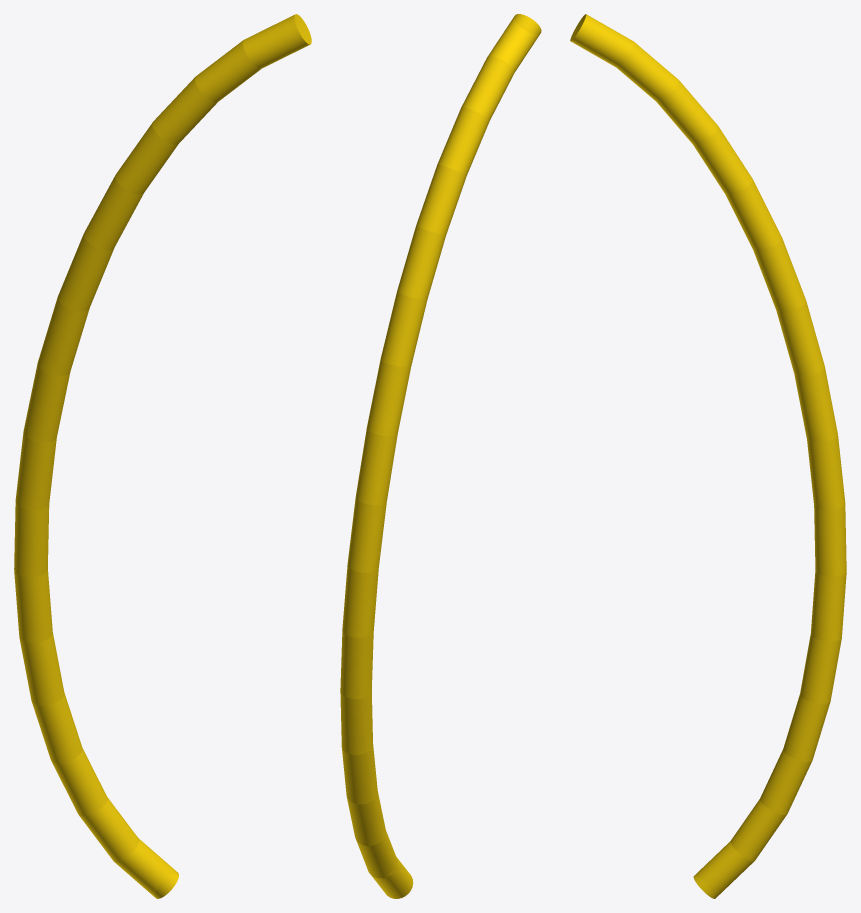
Rendered from Event_421364160_track_59.fbx.
The picture shows the model from 3 angles, left to right: view 1: azimuth 90°, elevation 25°; view 2: azimuth 150°, elevation 25°; view 3: azimuth 270°, elevation 25°; orthographic projection. The views are drawn at different scales.
Visible parts, largest first — view 1: Model; view 2: Model; view 3: Model.
Part boxes in pixels (x1=…): Model: x1=14, y1=14, x2=311, y2=898; Model: x1=340, y1=14, x2=541, y2=898; Model: x1=570, y1=14, x2=846, y2=898.
Size of the model in its own units: 0.1368 by 1.19 by 0.3509.
